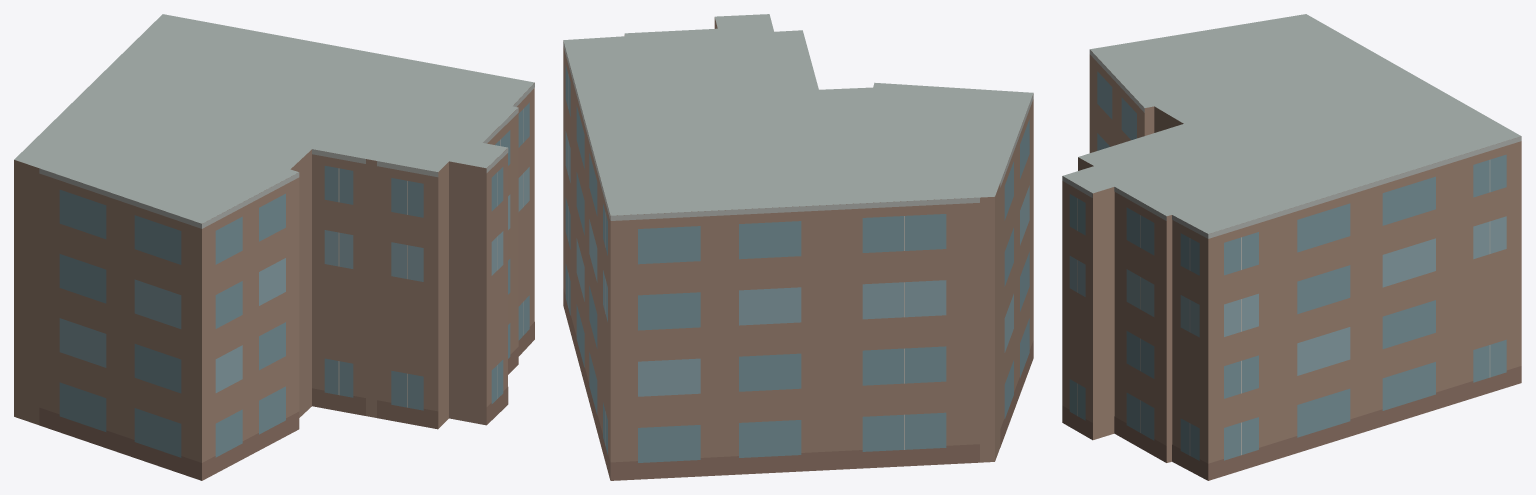
The model's file is survey-upis-32631693.glb.
3 renders of one model, left to right at view 1: azimuth 30°, elevation 25°; view 2: azimuth 150°, elevation 25°; view 3: azimuth 270°, elevation 25°, orthographic. The views are drawn at different scales.
Parts seen in each view (by area): view 1: survey-upis-32631693.tmp; view 2: survey-upis-32631693.tmp; view 3: survey-upis-32631693.tmp.
Boxes of the visible parts, x1,y1,x2,y2 form: survey-upis-32631693.tmp: (14, 14, 534, 480); survey-upis-32631693.tmp: (563, 14, 1033, 480); survey-upis-32631693.tmp: (1062, 14, 1521, 480).
Bounding box in the file's own units: 23.32 × 12.2 × 20.57.
